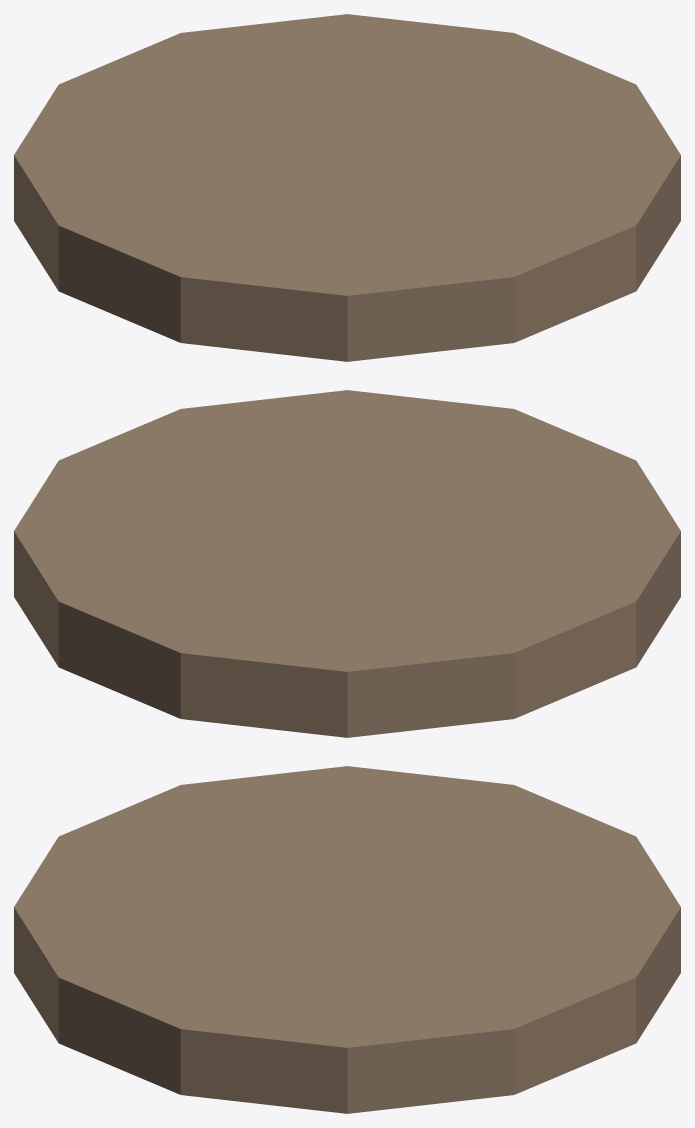
Rendered from PR-INK.glb.
The picture shows the model from 3 angles, top to bottom: view 1: azimuth 30°, elevation 25°; view 2: azimuth 150°, elevation 25°; view 3: azimuth 270°, elevation 25°; orthographic projection.
Parts seen in each view (by area): view 1: container; view 2: container; view 3: container.
Boxes of the visible parts, x1,y1,x2,y2 form: container: (14,14,680,361); container: (14,390,680,737); container: (14,766,680,1113).
Size of the model in its own units: 0.11 by 0.012 by 0.11.
